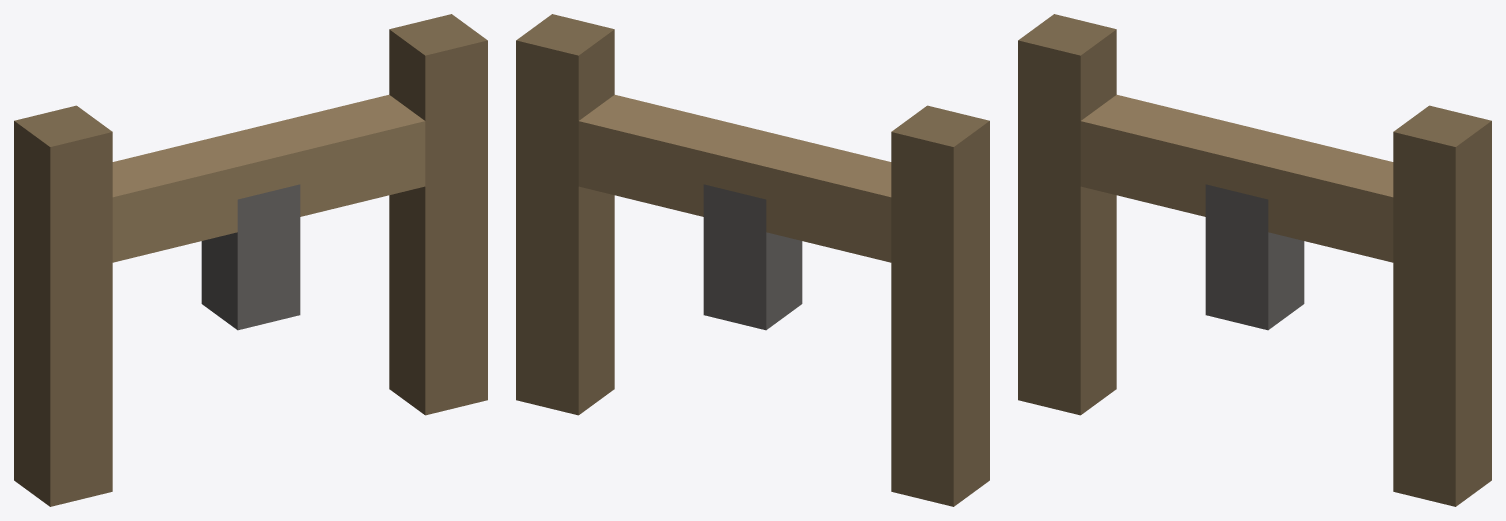
The model's file is amarradero_01.glb.
3 views of the same model, side by side, from view 1: azimuth 30°, elevation 25°; view 2: azimuth 150°, elevation 25°; view 3: azimuth 330°, elevation 25° (orthographic).
Visible parts, largest first — view 1: amarradero_01; view 2: amarradero_01; view 3: amarradero_01.
Part boxes in pixels (bbox=[...]): amarradero_01: bbox=[14, 14, 487, 506]; amarradero_01: bbox=[516, 14, 989, 506]; amarradero_01: bbox=[1018, 14, 1491, 506].
Bounding box in the file's own units: 1.4 × 1.1 × 0.2.
